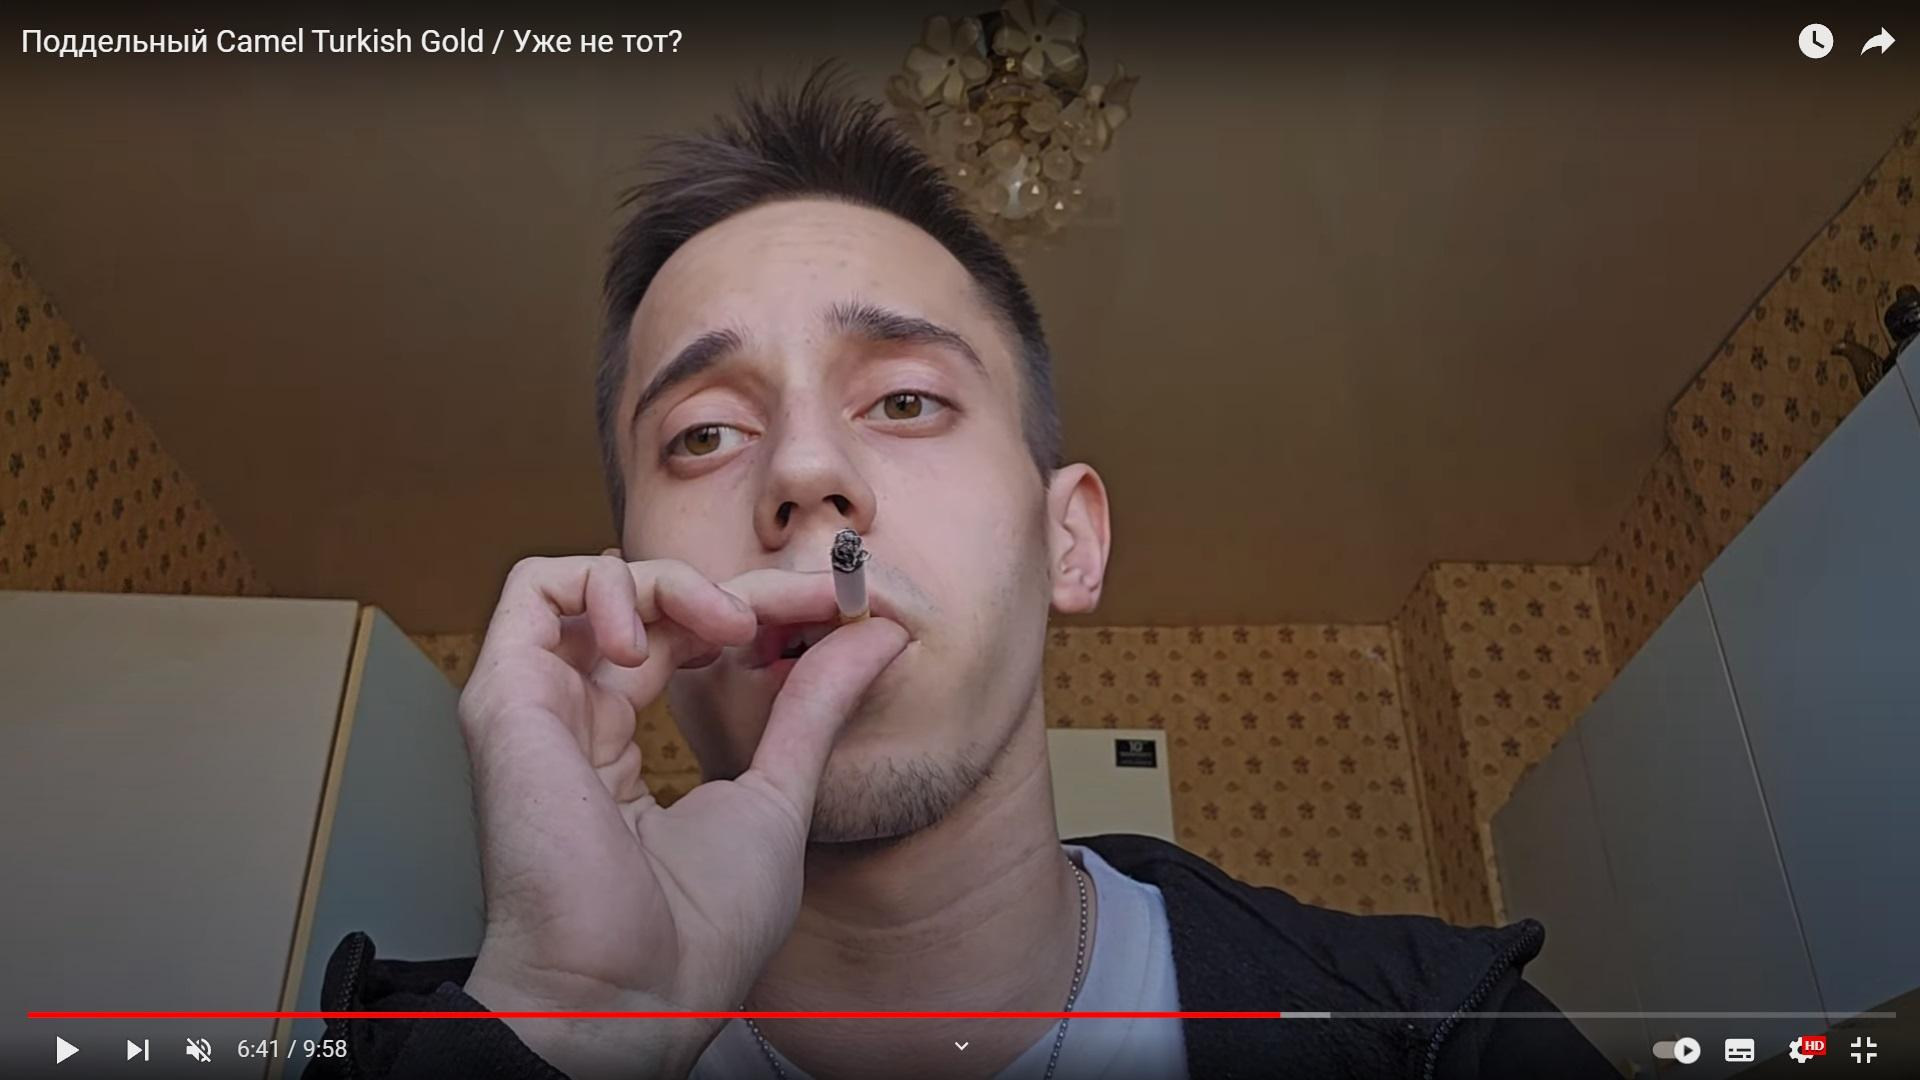cigarette: (832, 529, 870, 622)
